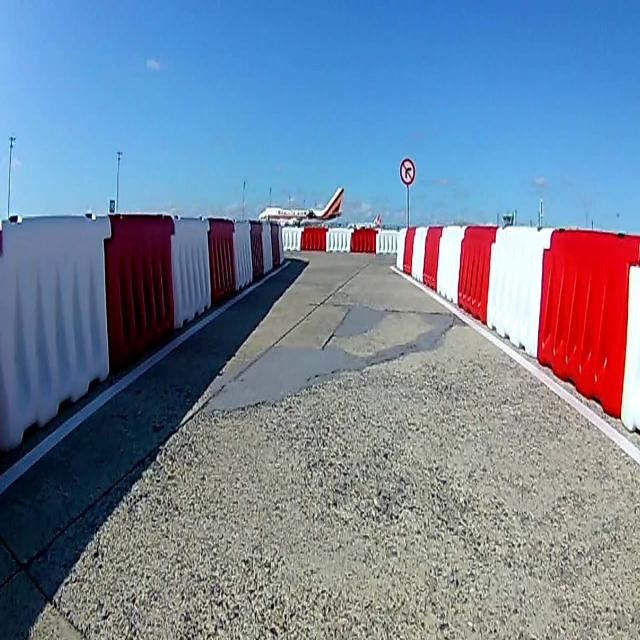sagadonulmez: (399, 156, 415, 185)
